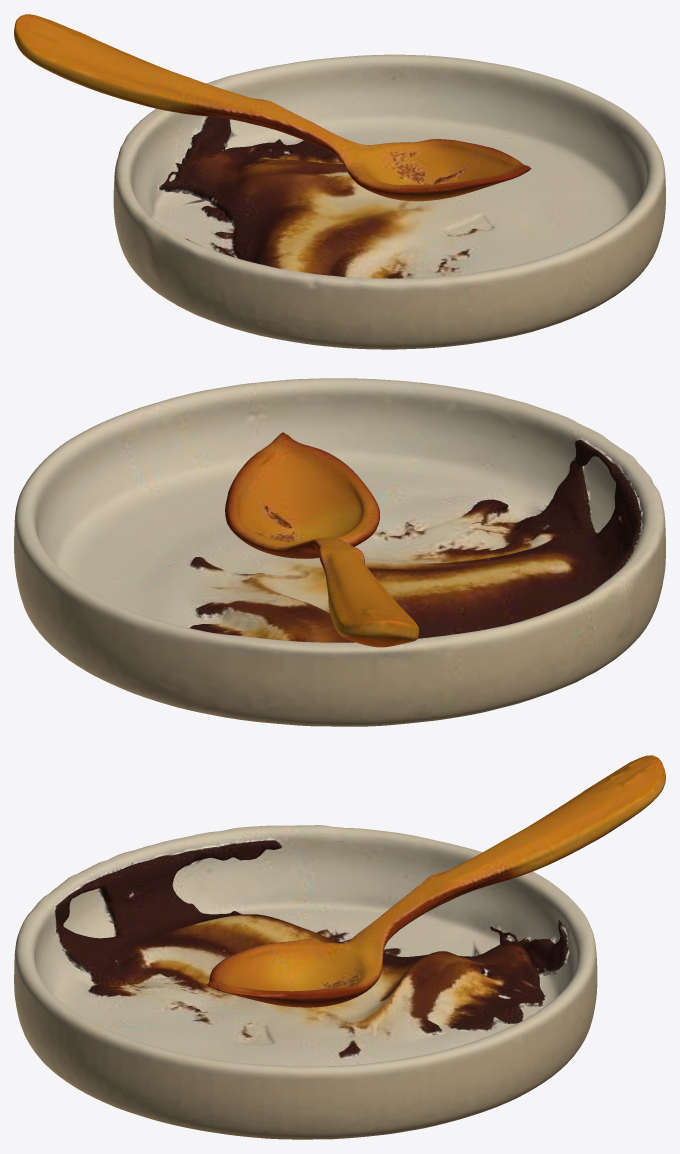
Rendered from cuchara.glb.
The picture shows the model from 3 angles, top to bottom: view 1: azimuth 30°, elevation 25°; view 2: azimuth 150°, elevation 25°; view 3: azimuth 270°, elevation 25°; orthographic projection. The views are drawn at different scales.
Parts seen in each view (by area): view 1: tripo_node_34419cf4-4301-49cb-88ef-dc35f1c00e4a; view 2: tripo_node_34419cf4-4301-49cb-88ef-dc35f1c00e4a; view 3: tripo_node_34419cf4-4301-49cb-88ef-dc35f1c00e4a.
Boxes of the visible parts, <box> form: tripo_node_34419cf4-4301-49cb-88ef-dc35f1c00e4a: <box>14,14,665,349</box>; tripo_node_34419cf4-4301-49cb-88ef-dc35f1c00e4a: <box>14,378,665,726</box>; tripo_node_34419cf4-4301-49cb-88ef-dc35f1c00e4a: <box>14,755,665,1139</box>.
Size of the model in its own units: 0.8854 by 0.2685 by 0.9796.
Materials: 1 (1 with a texture image).
